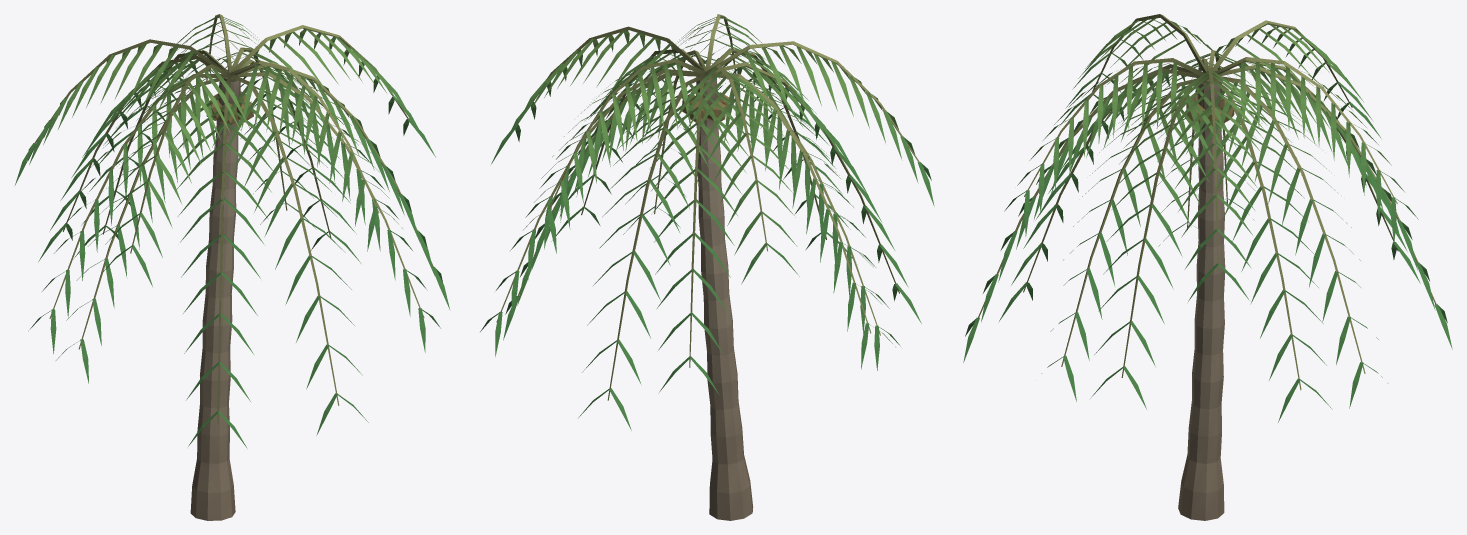
The model's file is tree_palm_lod0.glb.
3 views of the same model, side by side, from view 1: azimuth 30°, elevation 25°; view 2: azimuth 150°, elevation 25°; view 3: azimuth 270°, elevation 25° (orthographic). The views are drawn at different scales.
Parts seen in each view (by area): view 1: tree_palm_lod0; view 2: tree_palm_lod0; view 3: tree_palm_lod0.
Boxes of the visible parts, x1=… form: tree_palm_lod0: x1=15, y1=14, x2=450, y2=520; tree_palm_lod0: x1=480, y1=14, x2=934, y2=520; tree_palm_lod0: x1=963, y1=14, x2=1452, y2=520.
Bounding box in the file's own units: 7.98 × 9.29 × 8.65.
